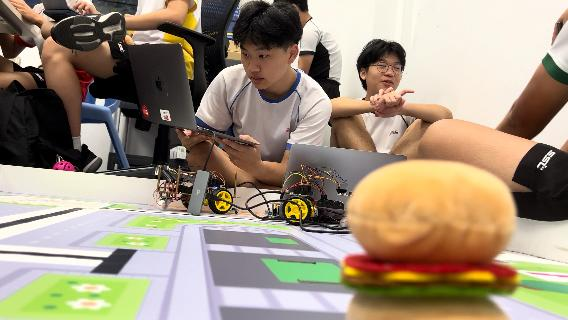burger: (344, 158, 526, 314)
